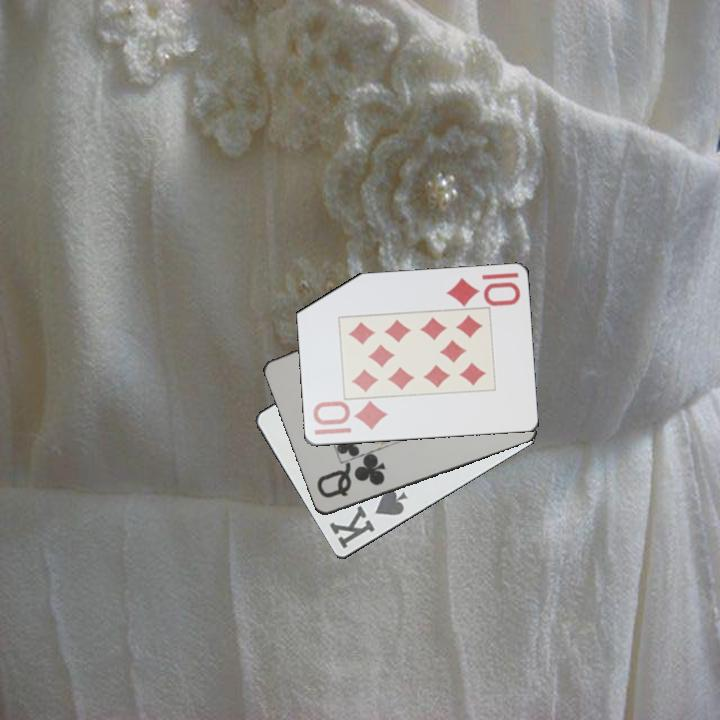Ks: (325, 486, 411, 552)
Qc: (313, 454, 389, 501)
Td: (443, 269, 523, 309), (309, 400, 390, 438)
